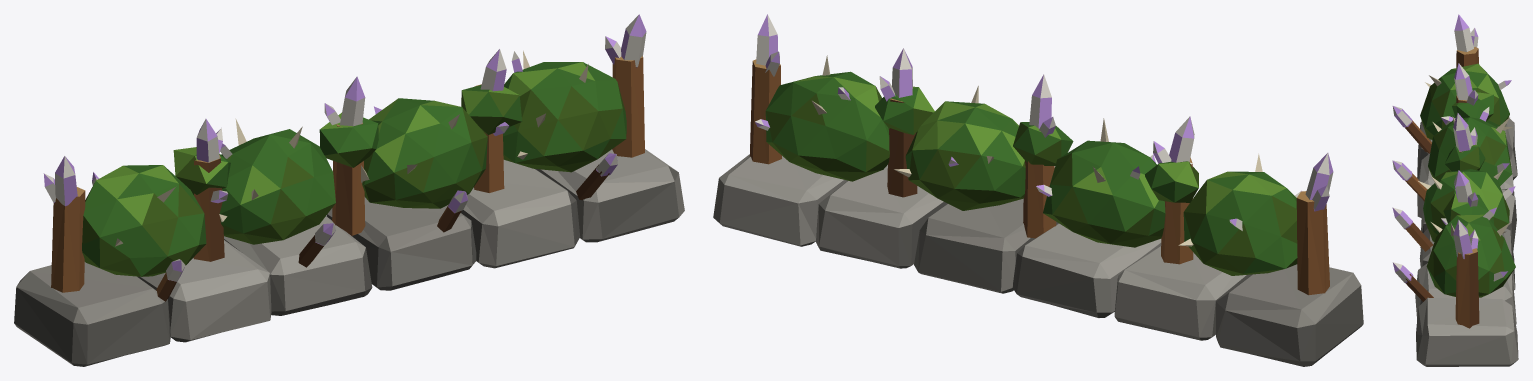
The model's file is barricade_shard.glb.
The picture shows the model from 3 angles, left to right: view 1: azimuth 30°, elevation 25°; view 2: azimuth 150°, elevation 25°; view 3: azimuth 270°, elevation 25°; orthographic projection. The views are drawn at different scales.
Parts seen in each view (by area): view 1: barricade_shard; view 2: barricade_shard; view 3: barricade_shard.
Part boxes in pixels (<box>): barricade_shard: <box>14,14,684,366</box>; barricade_shard: <box>713,14,1363,366</box>; barricade_shard: <box>1392,14,1518,366</box>.
Size of the model in its own units: 3.01 by 0.9325 by 0.7236.
